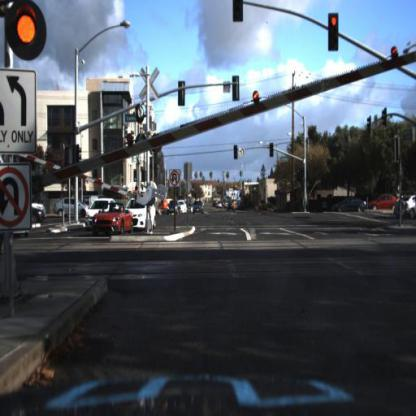car: (93, 200, 135, 236), (51, 197, 93, 223), (129, 202, 159, 233), (334, 192, 368, 217), (368, 193, 402, 215), (83, 199, 107, 230), (331, 197, 367, 214), (371, 189, 395, 213), (24, 207, 47, 226), (30, 207, 45, 229), (191, 199, 205, 216), (229, 196, 240, 217), (167, 200, 181, 216), (32, 202, 49, 215), (177, 199, 187, 220), (165, 199, 177, 214), (223, 196, 230, 212)
pedestrian: (397, 189, 407, 231)
trafficLight: (328, 13, 339, 53), (233, 138, 243, 164), (269, 141, 276, 159)
trafficLight-Green: (299, 165, 307, 186)
trafficLight-Red: (1, 1, 69, 66), (324, 9, 345, 58)
